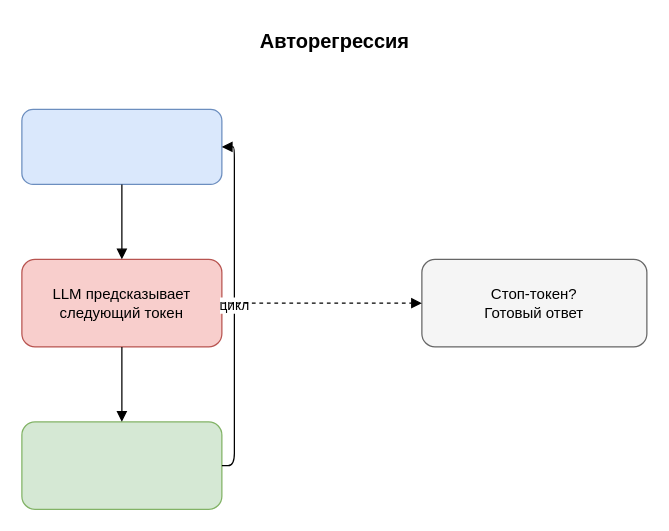
Image size: 669x531. Some labels were removed from this diagram. The shapes that lost their labels are listed below. From the top down, each one's centre as x and y in pixels, then its label:
At point 121,146: "Текст (токены)".
At point 121,465: "Добавить токен к тексту".
